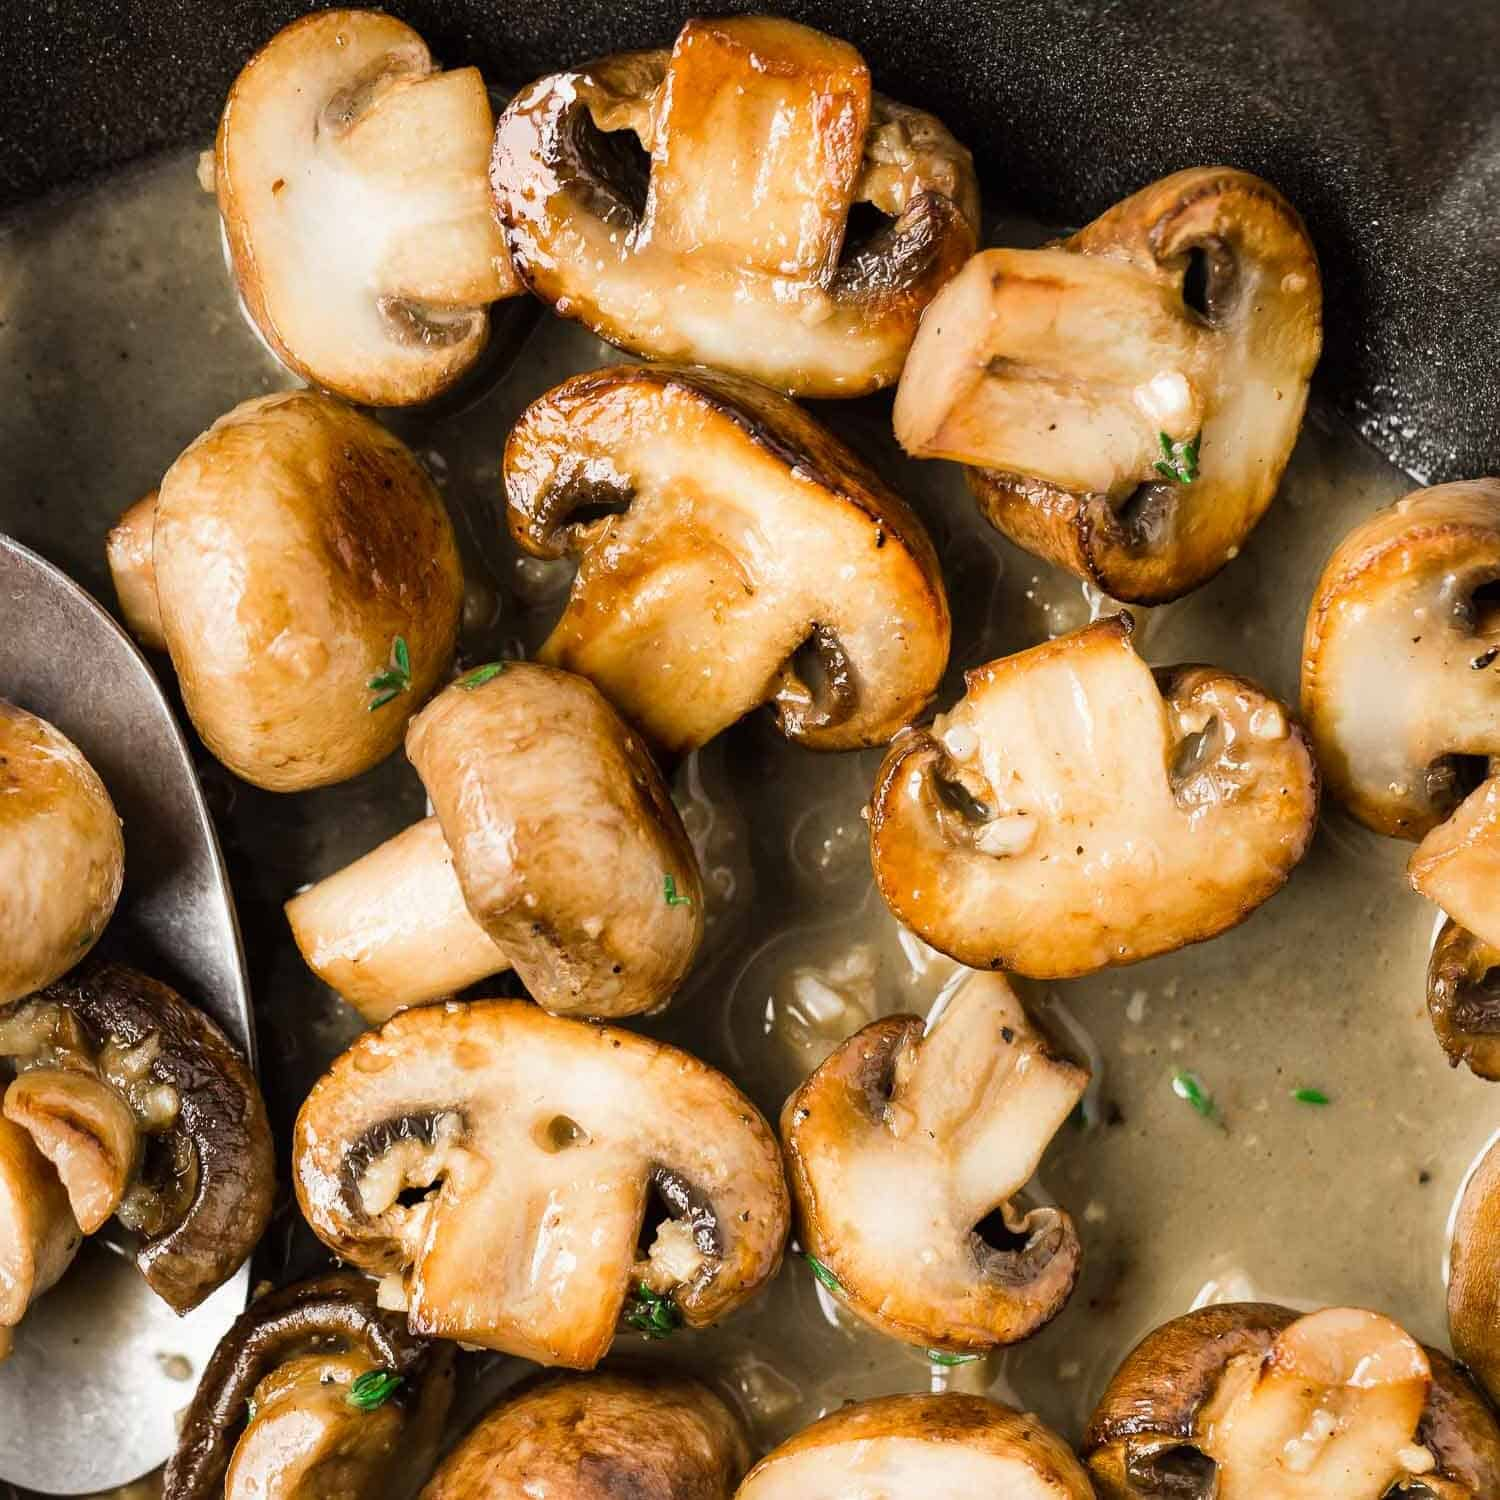mushroom-white: (495, 3, 979, 404), (898, 163, 1331, 606), (290, 1011, 784, 1370), (871, 624, 1315, 977), (115, 398, 466, 799), (217, 1, 505, 409), (791, 968, 1098, 1343)
